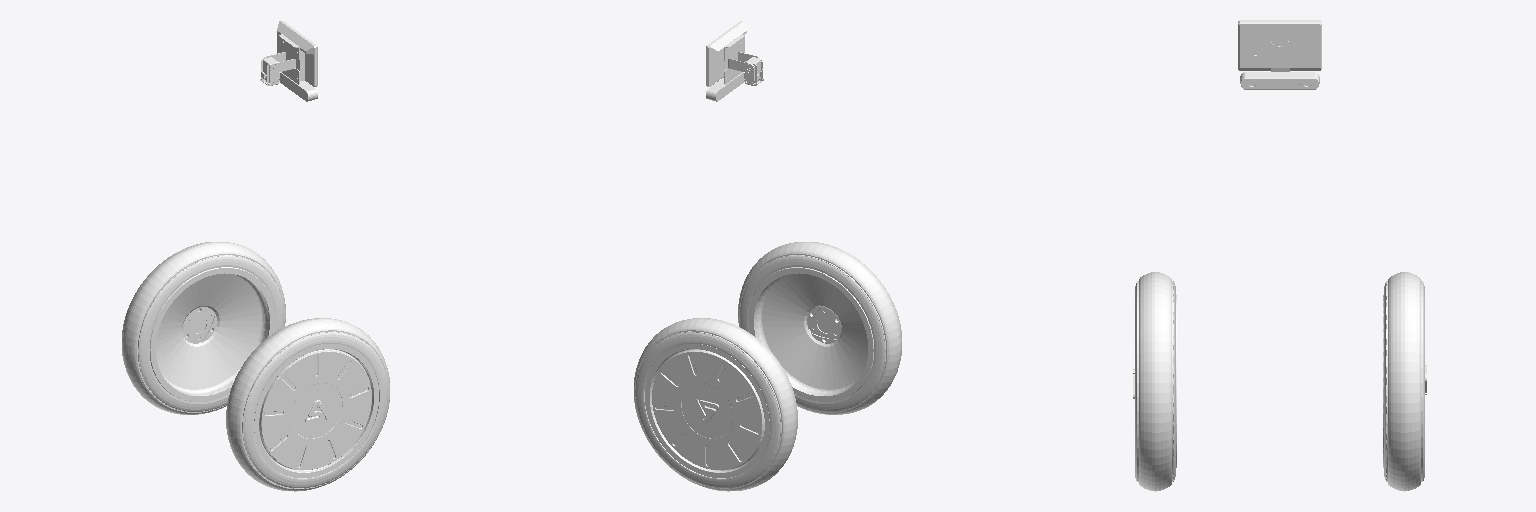
--- Render facts (derived) ---
3 views of the same robot in one strip: view 1: azimuth 30°, elevation 25°; view 2: azimuth 150°, elevation 25°; view 3: azimuth 270°, elevation 25° (orthographic).
Model segway_robot with 25 links and 24 joints (2 revolute, 2 continuous, 20 fixed), rooted at base_link, posed all joints at 0.
Links seen in each view (by area): view 1: right_wheel_link, left_wheel_link, tilt_link; view 2: left_wheel_link, right_wheel_link, tilt_link; view 3: left_wheel_link, right_wheel_link, tilt_link, camera_link.
Boxes of the visible links, <box> form: right_wheel_link: <box>226,318,389,491</box>; left_wheel_link: <box>122,242,285,414</box>; tilt_link: <box>266,21,317,86</box>; left_wheel_link: <box>634,318,797,491</box>; right_wheel_link: <box>738,242,901,414</box>; tilt_link: <box>706,21,757,86</box>; left_wheel_link: <box>1383,272,1426,491</box>; right_wheel_link: <box>1133,272,1176,491</box>; tilt_link: <box>1238,20,1321,71</box>; camera_link: <box>1240,72,1319,89</box>.
Size in the robot's own frame: 0.4806 by 0.6435 by 1.17 metres.
Meshes: 6 distinct files referenced, 5 mesh visuals loaded (1 binary STL, 3 OBJ); not drawn: 2 (reference not matched to a file when rendering).

URDF robot description (segway_robot):
<?xml version="1.0" ?>
<!-- =================================================================================== -->
<!-- |    This document was autogenerated by xacro from rmp.urdf.xacro                 | -->
<!-- |    EDITING THIS FILE BY HAND IS NOT RECOMMENDED                                 | -->
<!-- =================================================================================== -->
<!--
Software License Agreement (BSD)

\file      segway.urdf.xacro
\authors   Patrick Hussey
\copyright Copyright (c) 2018, Stanley Innovation, Inc., All rights reserved.

Redistribution and use in source and binary forms, with or without modification, are permitted provided that
the following conditions are met:
 * Redistributions of source code must retain the above copyright notice, this list of conditions and the
   following disclaimer.
 * Redistributions in binary form must reproduce the above copyright notice, this list of conditions and the
   following disclaimer in the documentation and/or other materials provided with the distribution.
 * Neither the name of Stanley Innovation, Inc. nor the names of its contributors may be used to endorse or promote
   products derived from this software without specific prior written permission.

THIS SOFTWARE IS PROVIDED BY THE COPYRIGHT HOLDERS AND CONTRIBUTORS "AS IS" AND ANY EXPRESS OR IMPLIED WAR-
RANTIES, INCLUDING, BUT NOT LIMITED TO, THE IMPLIED WARRANTIES OF MERCHANTABILITY AND FITNESS FOR A PARTICULAR
PURPOSE ARE DISCLAIMED. IN NO EVENT SHALL THE COPYRIGHT HOLDER OR CONTRIBUTORS BE LIABLE FOR ANY DIRECT, IN-
DIRECT, INCIDENTAL, SPECIAL, EXEMPLARY, OR CONSEQUENTIAL DAMAGES (INCLUDING, BUT NOT LIMITED TO, PROCUREMENT
OF SUBSTITUTE GOODS OR SERVICES; LOSS OF USE, DATA, OR PROFITS; OR BUSINESS INTERRUPTION) HOWEVER CAUSED AND
ON ANY THEORY OF LIABILITY, WHETHER IN CONTRACT, STRICT LIABILITY, OR TORT (INCLUDING NEGLIGENCE OR OTHERWISE)
ARISING IN ANY WAY OUT OF THE USE OF THIS SOFTWARE, EVEN IF ADVISED OF THE POSSIBILITY OF SUCH DAMAGE.
-->
<robot name="segway_robot" xmlns:xacro="http://ros.org/wiki/xacro">
  <gazebo>
    <plugin filename="libgazebo_ros_control.so" name="gazebo_ros_control">
      <robotNamespace>/</robotNamespace>
    </plugin>
    <plugin filename="libgazebo_ros_p3d.so" name="gazebo_ros_p3d">
      <bodyName>base_link</bodyName>
      <topicName>ground_truth_odom</topicName>
      <alwaysOn>true</alwaysOn>
      <updateRate>100.0</updateRate>
    </plugin>
  </gazebo>
  <!-- Base link is the center of the robot's chassis between the motors projected on the ground -->
  <link name="base_link">
  <inertial>
      <mass value="0.001"/>
      <origin rpy="0 0 0" xyz="0 0 0"/>
      <inertia ixx="0.0001" ixy="0.0" ixz="0.0" iyy="0.0001" iyz="0.0" izz="0.0001"/>
    </inertial>
  </link>
  <joint name="base_chassis_joint" type="fixed">
    <origin rpy="0 0 0" xyz="0 0 0.15801795"/>
    <parent link="base_link"/>
    <child link="base_chassis_link"/>
  </joint>
  <link name="base_chassis_link">
    <inertial>
      <mass value="101.0333036"/>
      <origin xyz="0 0 0.202000"/>
      <inertia ixx="5.38268396036" ixy="0" ixz="0" iyy="5.38268396036" iyz="0" izz="5.38268396036"/>
    </inertial>
    <collision>
      <geometry>
        <mesh filename="meshes/segway_components/collision/fixed_chassis_collision.stl"/>
      </geometry>
    </collision>
    <visual>
      <origin rpy="0 0 0" xyz="0 0 0"/>
      <geometry>
        <mesh filename="meshes/segway_components/visual/processed_fixed_chassis.obj"/>
      </geometry>
          <material name="">
        <color rgba="1 1 1 1" />
      </material>
</visual>
  </link>

<joint name="jr2_fixed_body_joint" type="fixed">
    <parent link="base_chassis_link"/>
    <child link="jr2_fixed_body_link"/>
    <origin rpy="0 0 0" xyz="0 0 0"/>
  </joint>
  <link name="jr2_fixed_body_link">
    <visual>
      <origin rpy="0 0 0" xyz="0 0 0"/>
      <geometry>
        <mesh filename="meshes/segway_components/visual/processed_fixed_body_highres.obj" scale="1.0 1.0 1.0"/>
      </geometry>
    </visual>
    <collision>
      <origin rpy="0 0 0" xyz="0 0 0"/>
      <geometry>
        <mesh filename="meshes/segway_components/visual/fixed_body_vhacd.obj" scale="1.0 1.0 1.0"/>
      </geometry>
    </collision>
    <inertial>
      <mass value="0.001"/>
      <origin rpy="0 0 0" xyz="0 0 0"/>
      <inertia ixx="0.0001" ixy="0.0" ixz="0.0" iyy="0.0001" iyz="0.0" izz="0.0001"/>
    </inertial>
  </link>

  <joint name="left_wheel" type="continuous">
    <parent link="base_chassis_link"/>
    <child link="left_wheel_link"/>
    <origin rpy="0 0 0" xyz="0 0.27105 0.08255015"/>
    <axis rpy="0 0 0" xyz="0 1 0"/>
  </joint>
  <gazebo reference="left_wheel">
    <implicitSpringDamper>1</implicitSpringDamper>
    <stopCfm>0.1</stopCfm>
    <stopErp>0.2</stopErp>
  </gazebo>
  <link name="left_wheel_link">
    <inertial>
      <mass value="20.0"/>
      <origin rpy="0 0 0" xyz="0 0 0"/>
      <inertia ixx="0.303625" ixy="0.000000" ixz="0.000000" iyx="0.000000" iyy="0.303625" iyz="0.000000" izx="0.000000" izy="0.000000" izz="0.578884"/>
    </inertial>
    <visual>
      <origin rpy="-1.570795 0 0" xyz="0 0 0"/>
      <geometry>
        <mesh filename="meshes/segway_components/visual/processed_i2_wheel.obj"/>
      </geometry>
          <material name="">
        <color rgba="1 1 1 1" />
      </material>
</visual>
    <collision>
      <origin rpy="-1.570795 0 0" xyz="0 0 0"/>
      <geometry>
        <cylinder length="0.092249" radius="0.2406"/>
      </geometry>
    </collision>

    <contact>
      <lateral_friction value="1.0"/>
      <rolling_friction value="0.0"/>
    <stiffness value="300000"/>
<damping value="30000"/>
    </contact>


  </link>
  <gazebo reference="left_wheel_link">
    <mu1>10</mu1>
    <mu2>10</mu2>
    <kp>5000000.0</kp>
    <kd>10.0</kd>
    <minDepth>0.001</minDepth>
    <maxVel>0.1</maxVel>
    <fdir1>1 0 0</fdir1>
  </gazebo>
  <transmission name="left_wheel_trans" type="SimpleTransmission">
    <type>transmission_interface/SimpleTransmission</type>
    <actuator name="left_wheel_motor">
      <mechanicalReduction>1</mechanicalReduction>
    </actuator>
    <joint name="left_wheel">
      <hardwareInterface>hardware_interface/VelocityJointInterface</hardwareInterface>
    </joint>
  </transmission>
  <joint name="right_wheel" type="continuous">
    <parent link="base_chassis_link"/>
    <child link="right_wheel_link"/>
    <origin rpy="0 0 0" xyz="0 -0.27105 0.08255015"/>
    <axis rpy="0 0 0" xyz="0 1 0"/>
  </joint>
  <gazebo reference="right_wheel">
    <implicitSpringDamper>1</implicitSpringDamper>
    <stopCfm>0.1</stopCfm>
    <stopErp>0.2</stopErp>
  </gazebo>
  <link name="right_wheel_link">
    <inertial>
      <mass value="20.0"/>
      <origin rpy="0 0 0" xyz="0 0 0"/>
      <inertia ixx="0.303625" ixy="0.000000" ixz="0.000000" iyx="0.000000" iyy="0.303625" iyz="0.000000" izx="0.000000" izy="0.000000" izz="0.578884"/>
    </inertial>
    <visual>
      <origin rpy="1.570795 0 0" xyz="0 0 0"/>
      <geometry>
        <mesh filename="meshes/segway_components/visual/processed_i2_wheel.obj"/>
      </geometry>
          <material name="">
        <color rgba="1 1 1 1" />
      </material>
</visual>
    <collision>
      <origin rpy="1.570795 0 0" xyz="0 0 0"/>
      <geometry>
        <cylinder length="0.092249" radius="0.2406"/>
      </geometry>
    </collision>

    <contact>
      <lateral_friction value="1.0"/>
      <rolling_friction value="0.0"/>
    <stiffness value="300000"/>
<damping value="30000"/>
    </contact>

  </link>
  <gazebo reference="right_wheel_link">
    <mu1>10</mu1>
    <mu2>10</mu2>
    <kp>5000000.0</kp>
    <kd>10.0</kd>
    <minDepth>0.001</minDepth>
    <maxVel>0.1</maxVel>
    <fdir1>1 0 0</fdir1>
  </gazebo>
  <transmission name="right_wheel_trans" type="SimpleTransmission">
    <type>transmission_interface/SimpleTransmission</type>
    <actuator name="right_wheel_motor">
      <mechanicalReduction>1</mechanicalReduction>
    </actuator>
    <joint name="right_wheel">
      <hardwareInterface>hardware_interface/VelocityJointInterface</hardwareInterface>
    </joint>
  </transmission>
  <link name="front_caster_pivot_link">
    <inertial>
      <mass value="0.0001"/>
      <origin rpy="0 0 0" xyz="0 0 0"/>
      <inertia ixx="0.0000001" ixy="0.0" ixz="0.0" iyy="0.0000001" iyz="0.0" izz="0.0000001"/>
    </inertial>
    <collision>
      <geometry>
        <mesh filename="meshes/segway_components/collision/frogleg_caster_pivot_collision.stl"/>
      </geometry>
    </collision>
  </link>
  <joint name="front_caster_pivot_joint" type="fixed">
    <origin rpy="0 0 3.14159" xyz="0.385841 0 0.051100"/>
    <parent link="base_chassis_link"/>
    <child link="front_caster_pivot_link"/>
  </joint>
  <link name="front_caster_wheel_link">
    <inertial>
      <mass value="1"/>
      <origin rpy="0 0 0" xyz="-0.1 0 0"/>
      <inertia ixx="0.002794" ixy="0.0" ixz="0.0" iyy="0.002794" iyz="0.0" izz="0.002794"/>
    </inertial>
    <collision>
      <geometry>
        <sphere radius="0.083571637"/>
      </geometry>
    </collision>

    <contact>
      <lateral_friction value="0.0"/>
      <rolling_friction value="0.0"/>
      <stiffness value="500000"/>
      <damping value="30000"/>
    </contact>

  </link>
  <joint name="front_caster_wheel_joint" type="fixed">
    <origin rpy="-1.570795 0 0" xyz="-0.055330 0 -0.125551"/>
    <parent link="front_caster_pivot_link"/>
    <child link="front_caster_wheel_link"/>
  </joint>
  <gazebo reference="front_caster_wheel_link">
    <mu1>0.0</mu1>
    <mu2>0.0</mu2>
    <kp>10000000.0</kp>
    <kd>100.0</kd>
    <minDepth>0.01</minDepth>
    <maxVel>10.0</maxVel>
  </gazebo>
  <link name="rear_caster_pivot_link">
    <inertial>
      <mass value="0.0001"/>
      <origin rpy="0 0 0" xyz="0 0 0"/>
      <inertia ixx="0.0000001" ixy="0.0" ixz="0.0" iyy="0.0000001" iyz="0.0" izz="0.0000001"/>
    </inertial>
    <collision>
      <geometry>
        <mesh filename="meshes/segway_components/collision/frogleg_caster_pivot_collision.stl"/>
      </geometry>
    </collision>
  </link>
  <joint name="rear_caster_pivot_joint" type="fixed">
    <origin rpy="0 0 0" xyz="-0.314721 0 0.051100"/>
    <parent link="base_chassis_link"/>
    <child link="rear_caster_pivot_link"/>
  </joint>
  <link name="rear_caster_wheel_link">
    <inertial>
      <mass value="1"/>
      <origin rpy="0 0 0" xyz="0 0 0"/>
      <inertia ixx="0.002794" ixy="0.0" ixz="0.0" iyy="0.002794" iyz="0.0" izz="0.002794"/>
    </inertial>
    <collision>
      <geometry>
        <sphere radius="0.083571637"/>
      </geometry>
    </collision>

    <contact>
      <lateral_friction value="0.0"/>
      <rolling_friction value="0.0"/>
 <stiffness value="300000"/>
<damping value="30000"/> 
    </contact>

  </link>
  <joint name="rear_caster_wheel_joint" type="fixed">
    <origin rpy="-1.570795 0 0" xyz="-0.055330 0 -0.125551"/>
    <parent link="rear_caster_pivot_link"/>
    <child link="rear_caster_wheel_link"/>
  </joint>
  <gazebo reference="rear_caster_wheel_link">
    <mu1>0.0</mu1>
    <mu2>0.0</mu2>
    <kp>10000000.0</kp>
    <kd>100.0</kd>
    <minDepth>0.01</minDepth>
    <maxVel>10.0</maxVel>
  </gazebo>
  <!-- CH Robotics UM7 Link-->
  <link name="ext_imu_frame">
  <inertial>
      <mass value="0.001"/>
      <origin rpy="0 0 0" xyz="0 0 0"/>
      <inertia ixx="0.0001" ixy="0.0" ixz="0.0" iyy="0.0001" iyz="0.0" izz="0.0001"/>
    </inertial>
    </link>
  <joint name="ext_imu_joint" type="fixed">
    <origin rpy="3.14159 0 1.570795" xyz="0.053540 0 0.086597"/>
    <parent link="base_chassis_link"/>
    <child link="ext_imu_frame"/>
  </joint>
  <gazebo>
    <plugin filename="libhector_gazebo_ros_imu.so" name="imu_controller">
      <alwaysOn>1</alwaysOn>
      <updateRate>50.0</updateRate>
      <bodyName>ext_imu_frame</bodyName>
      <topicName>/segway/feedback/ext_imu</topicName>
      <accelDrift>0.005 0.005 0.005</accelDrift>
      <accelGaussianNoise>0.005 0.005 0.005</accelGaussianNoise>
      <rateDrift>0.005 0.005 0.005 </rateDrift>
      <rateGaussianNoise>0.005 0.005 0.005 </rateGaussianNoise>
      <headingDrift>0.005</headingDrift>
      <headingGaussianNoise>0.005</headingGaussianNoise>
    </plugin>
  </gazebo>
  <link name="rear_laser_link">
  <inertial>
      <mass value="0.001"/>
      <origin rpy="0 0 0" xyz="0 0 0"/>
      <inertia ixx="0.0001" ixy="0.0" ixz="0.0" iyy="0.0001" iyz="0.0" izz="0.0001"/>
    </inertial>
  </link>
  <joint name="rear_laser_joint" type="fixed">
    <origin rpy="0 0 3.14159" xyz="-0.336957 0 0.137117"/>
    <parent link="base_chassis_link"/>
    <child link="rear_laser_link"/>
  </joint>
  <gazebo reference="rear_laser_link">
    <sensor name="rear_tim_laser" type="gpu_ray">
      <pose>0 0 0 0 0 0</pose>
      <visualize>false</visualize>
      <update_rate>15</update_rate>
      <ray>
        <scan>
          <horizontal>
            <samples>660</samples>
            <resolution>1</resolution>
            <min_angle>-1.9</min_angle>
            <max_angle>1.9</max_angle>
          </horizontal>
        </scan>
        <range>
          <min>0.10</min>
          <max>20.0</max>
          <resolution>0.01</resolution>
        </range>
        <noise>
          <type>gaussian</type>
          <mean>0.0</mean>
          <stddev>0.0</stddev>
        </noise>
      </ray>
      <plugin filename="libgazebo_ros_gpu_laser.so" name="rear_tim_node">
        <topicName>/segway/rear_scan</topicName>
        <frameName>rear_laser_link</frameName>
      </plugin>
    </sensor>
  </gazebo>
  <link name="front_laser_link">
  <inertial>
      <mass value="0.001"/>
      <origin rpy="0 0 0" xyz="0 0 0"/>
      <inertia ixx="0.0001" ixy="0.0" ixz="0.0" iyy="0.0001" iyz="0.0" izz="0.0001"/>
    </inertial>
  </link>
  <joint name="front_laser_joint" type="fixed">
    <origin rpy="0 0 0" xyz="0.336957 0 0.137117"/>
    <parent link="base_chassis_link"/>
    <child link="front_laser_link"/>
  </joint>
  <gazebo reference="front_laser_link">
    <sensor name="front_tim_laser" type="gpu_ray">
      <pose>0 0 0 0 0 0</pose>
      <visualize>false</visualize>
      <update_rate>15</update_rate>
      <ray>
        <scan>
          <horizontal>
            <samples>660</samples>
            <resolution>1</resolution>
            <min_angle>-1.9</min_angle>
            <max_angle>1.9</max_angle>
          </horizontal>
        </scan>
        <range>
          <min>0.10</min>
          <max>20.0</max>
          <resolution>0.01</resolution>
        </range>
        <noise>
          <type>gaussian</type>
          <mean>0.0</mean>
          <stddev>0.0</stddev>
        </noise>
      </ray>
      <plugin filename="libgazebo_ros_gpu_laser.so" name="front_tim_node">
        <topicName>/segway/front_scan</topicName>
        <frameName>front_laser_link</frameName>
      </plugin>
    </sensor>
  </gazebo>
  <link name="lower_velodyne_frame">
  <inertial>
      <mass value="0.001"/>
      <origin rpy="0 0 0" xyz="0 0 0"/>
      <inertia ixx="0.0001" ixy="0.0" ixz="0.0" iyy="0.0001" iyz="0.0" izz="0.0001"/>
    </inertial>
  </link>
  <joint name="lower_velodyne_joint" type="fixed">
    <origin rpy="0 0 0" xyz="-0.019685 0 0.606982"/>
    <parent link="base_chassis_link"/>
    <child link="lower_velodyne_frame"/>
  </joint>
  <!--gazebo reference="lower_velodyne_frame">>
            <sensor type="ray" name="lower_velodyne">
                <pose>0 0 0 0 0 0</pose>
                <visualize>false</visualize>
                <update_rate>10</update_rate>
                <ray>
                    <scan>
                        <horizontal>
                            <samples>1090</samples>
                            <resolution>1</resolution>
                            <min_angle>${-M_PI}</min_angle>
                            <max_angle>${M_PI}</max_angle>
                        </horizontal>
                        <vertical>
                            <samples>16</samples>
                            <resolution>1</resolution>
                            <min_angle>-${15.0*M_PI/180.0}</min_angle>
                            <max_angle> ${15.0*M_PI/180.0}</max_angle>
                        </vertical>
                    </scan>
                    <range>
                        <min>0.9</min>
                        <max>20.0</max>
                        <resolution>0.001</resolution>
                    </range>
                    <noise>
                        <type>gaussian</type>
                        <mean>0.0</mean>
                        <stddev>0.0</stddev>
                    </noise>
                </ray>
                <plugin name="lower_velodyne_plugin" filename="libgazebo_ros_block_laser.so">
                    <updateRate>10.0</updateRate>
                    <topicName>/lower_velodyne_pointcloud</topicName>
                    <frameName>lower_velodyne_frame</frameName>
                </plugin>

            </sensor>
        </gazebo-->
  <link name="occam">
  <inertial>
      <mass value="0.001"/>
      <origin rpy="0 0 0" xyz="0 0 0"/>
      <inertia ixx="0.0001" ixy="0.0" ixz="0.0" iyy="0.0001" iyz="0.0" izz="0.0001"/>
    </inertial>
    </link>
  <joint name="ocamm_omni_joint" type="fixed">
    <origin rpy="-1.570795 0 -1.570795" xyz="-0.019685 0 0.742092"/>
    <parent link="base_chassis_link"/>
    <child link="occam"/>
  </joint>
  <link name="occam_omni_optical_link">
  <inertial>
      <mass value="0.001"/>
      <origin rpy="0 0 0" xyz="0 0 0"/>
      <inertia ixx="0.0001" ixy="0.0" ixz="0.0" iyy="0.0001" iyz="0.0" izz="0.0001"/>
    </inertial>
  </link>
  <joint name="ocamm_omni_optical_joint" type="fixed">
    <origin rpy="0 1.570795 -1.570795" xyz="0 0 0"/>
    <parent link="occam"/>
    <child link="occam_omni_optical_link"/>
  </joint>
  <link name="upper_velodyne_frame">
  <inertial>
      <mass value="0.001"/>
      <origin rpy="0 0 0" xyz="0 0 0"/>
      <inertia ixx="0.0001" ixy="0.0" ixz="0.0" iyy="0.0001" iyz="0.0" izz="0.0001"/>
    </inertial>
  </link>
  <joint name="upper_velodyne_joint" type="fixed">
    <origin rpy="0 0 0.085" xyz="-0.019685 0 1.077382"/>
    <parent link="base_chassis_link"/>
    <child link="upper_velodyne_frame"/>
  </joint>
  <!--gazebo reference="upper_velodyne_frame">
            <sensor name="upper_velodyne" type="ray">
                <pose>0 0 0 0 0 0</pose>
                <visualize>false</visualize>
                <update_rate>10</update_rate>
                <ray>
                    <scan>
                        <horizontal>
                            <samples>1090</samples>
                            <resolution>1</resolution>
                            <min_angle>${-M_PI}</min_angle>
                            <max_angle>${M_PI}</max_angle>
                        </horizontal>
                        <vertical>
                            <samples>16</samples>
                            <resolution>1</resolution>
                            <min_angle>-${15.0*M_PI/180.0}</min_angle>
                            <max_angle> ${15.0*M_PI/180.0}</max_angle>
                        </vertical>
                    </scan>
                    <range>
                        <min>0.9</min>
                        <max>20.0</max>
                        <resolution>0.001</resolution>
                    </range>
                    <noise>
                        <type>gaussian</type>
                        <mean>0.0</mean>
                        <stddev>0.0</stddev>
                    </noise>
                </ray>
                <plugin name="upper_velodyne_plugin" filename="libgazebo_ros_block_laser.so">
                    <updateRate>10.0</updateRate>
                    <topicName>/upper_velodyne_pointcloud</topicName>
                    <frameName>upper_velodyne_frame</frameName>
                </plugin>

            </sensor>
        </gazebo-->
  <link name="gps_frame">
  <inertial>
      <mass value="0.001"/>
      <origin rpy="0 0 0" xyz="0 0 0"/>
      <inertia ixx="0.0001" ixy="0.0" ixz="0.0" iyy="0.0001" iyz="0.0" izz="0.0001"/>
    </inertial>
  </link>
  <joint name="gps_joint" type="fixed">
    <origin rpy="0 0 -1.570795" xyz="-0.019685 0 1.116244"/>
    <parent link="base_chassis_link"/>
    <child link="gps_frame"/>
  </joint>
  <gazebo>
    <plugin filename="libhector_gazebo_ros_gps.so" name="gps_controller">
      <alwaysOn>1</alwaysOn>
      <updateRate>40</updateRate>
      <bodyName>gps_frame</bodyName>
      <topicName>/segway/feedback/gps/fix_2d</topicName>
      <velocityTopicName>/segway/feedback/gps/vel</velocityTopicName>
      <referenceLatitude>40.712784</referenceLatitude>
      <referenceLongitude>-74.005941</referenceLongitude>
      <referenceHeading>0</referenceHeading>
      <referenceAltitude>0</referenceAltitude>
      <drift>0.0001 0.0001 0.0001</drift>
    </plugin>
  </gazebo>
  <joint name="pan_joint" type="revolute">
    <origin rpy="0 0 0" xyz="0.043815 0 0.886186"/>
    <axis xyz="0 0 1"/>
    <parent link="base_chassis_link"/>
    <child link="pan_link"/>
    <limit effort="60.0" lower="-1.570796326794897" upper="1.570796326794897" velocity="6.597"/>
  </joint>
  <link name="pan_link">
    <inertial>
      <mass value="0.142314"/>
      <origin xyz="-0.000098 -0.000421 0.038035"/>
      <inertia ixx="0.000065" ixy="0.000001" ixz="0.000000" iyx="0.000001" iyy="0.000055" iyz="-0.000002" izx="0.00000" izy="-0.000002" izz="0.000034"/>
    </inertial>
    <visual>
      <origin rpy="0 0 0" xyz="0 0 0"/>
      <geometry>
        <mesh filename="meshes/segway_components/visual/processed_tilt_servo.obj"/>
      </geometry>
          <material name="">
        <color rgba="1 1 1 1" />
      </material>
</visual>
    <collision>
      <origin rpy="0 0 0" xyz="0 0 0"/>
      <geometry>
        <mesh filename="meshes/segway_components/collision/tilt_servo_collision.stl"/>
      </geometry>
    </collision>
  </link>
  <transmission name="pan_trans" type="SimpleTransmission">
    <type>transmission_interface/SimpleTransmission</type>
    <joint name="pan_joint">
      <hardwareInterface>hardware_interface/EffortJointInterface</hardwareInterface>
    </joint>
    <actuator name="pan_actuator">
      <mechanicalReduction>1</mechanicalReduction>
    </actuator>
  </transmission>
  <link name="tilt_link">
    <inertial>
      <mass value="0.531983"/>
      <origin xyz="0.077660 -0.013492 0.006611"/>
      <inertia ixx="0.001766" ixy="0.000001" ixz="-0.000024" iyx="0.000001" iyy="0.001253" iyz="0.000022" izx="-0.000024" izy="0.000022" izz="0.000629"/>
    </inertial>
    <visual>
      <origin rpy="0 0 0" xyz="0 0 0"/>
      <geometry>
        <mesh filename="meshes/segway_components/visual/processed_touch_screen.obj"/>
      </geometry>
          <material name="">
        <color rgba="1 1 1 1" />
      </material>
</visual>
    <collision>
      <origin rpy="0 0 0" xyz="0 0 0"/>
      <geometry>
        <mesh filename="meshes/segway_components/collision/touch_screen_collision.stl"/>
      </geometry>
    </collision>
  </link>
  <joint name="tilt_joint" type="revolute">
    <origin rpy="-1.570795 0 0" xyz="0 0 0.055000"/>
    <axis xyz="0 0 1"/>
    <parent link="pan_link"/>
    <child link="tilt_link"/>
    <limit effort="60.0" lower="-1.570796326794897" upper="1.570796326794897" velocity="6.597"/>
  </joint>
  <transmission name="tilt_trans" type="SimpleTransmission">
    <type>transmission_interface/SimpleTransmission</type>
    <joint name="tilt_joint">
      <hardwareInterface>hardware_interface/EffortJointInterface</hardwareInterface>
    </joint>
    <actuator name="tilt_actuator">
      <mechanicalReduction>1</mechanicalReduction>
    </actuator>
  </transmission>
  <joint name="camera_joint" type="fixed">
    <origin rpy="1.57 0 0" xyz="0.08 0.075 0.0"/>
    <parent link="tilt_link"/>
    <child link="camera_link"/>
  </joint>
  <link name="camera_link">
    <inertial>
      <mass value="0.1"/>
      <origin xyz="0 0 0"/>
      <inertia ixx="0.001767" ixy="0.0" ixz="0.0" iyx="0.0" iyy="0.001789" iyz="0.0" izx="0.0" izy="0.0" izz="0.002159"/>
    </inertial>
    <visual>
      <geometry>
        <mesh filename="meshes/additional_sensors/visual/ZED.stl"/>
      </geometry>
          <material name="">
        <color rgba="1 1 1 1" />
      </material>
</visual>
    <collision>
      <geometry>
        <box size="0.033 0.175 0.030"/>
      </geometry>
    </collision>
  </link>


  <!-- ZED left camera frame -->
  <link name="camera_rgb_frame">
  <inertial>
      <mass value="0.001"/>
      <origin rpy="0 0 0" xyz="0 0 0"/>
      <inertia ixx="0.0001" ixy="0.0" ixz="0.0" iyy="0.0001" iyz="0.0" izz="0.0001"/>
    </inertial>
  </link>
  <joint name="camera_rgb_joint" type="fixed">
    <origin rpy="0 0 0" xyz="0 0.06 0"/>
    <parent link="camera_link"/>
    <child link="camera_rgb_frame"/>
  </joint>
  <link name="camera_rgb_optical_frame">
  <inertial>
      <mass value="0.001"/>
      <origin rpy="0 0 0" xyz="0 0 0"/>
      <inertia ixx="0.0001" ixy="0.0" ixz="0.0" iyy="0.0001" iyz="0.0" izz="0.0001"/>
    </inertial>
  </link>
  <joint name="camera_rgb_optical_joint" type="fixed">
    <origin rpy="-1.57075 0 -1.57075" xyz="0 0 0"/>
    <parent link="camera_rgb_frame"/>
    <child link="camera_rgb_optical_frame"/>
  </joint>
  <!-- Same as ZED left camera frame -->
  <link name="camera_depth_frame">
  <inertial>
      <mass value="0.001"/>
      <origin rpy="0 0 0" xyz="0 0 0"/>
      <inertia ixx="0.0001" ixy="0.0" ixz="0.0" iyy="0.0001" iyz="0.0" izz="0.0001"/>
    </inertial>
    </link>
  <joint name="camera_depth_joint" type="fixed">
    <origin rpy="0 0 0" xyz="0 0.06 0"/>
    <parent link="camera_link"/>
    <child link="camera_depth_frame"/>
  </joint>
  <link name="camera_depth_optical_frame">
  <inertial>
      <mass value="0.001"/>
      <origin rpy="0 0 0" xyz="0 0 0"/>
      <inertia ixx="0.0001" ixy="0.0" ixz="0.0" iyy="0.0001" iyz="0.0" izz="0.0001"/>
    </inertial>
    </link>
  <joint name="camera_depth_optical_joint" type="fixed">
    <origin rpy="-1.57075 0 -1.57075" xyz="0 0 0"/>
    <parent link="camera_depth_frame"/>
    <child link="camera_depth_optical_frame"/>
  </joint>
  <gazebo reference="camera_link">
    <material>Gazebo/Grey</material>
    <sensor name="camera" type="depth">
      <always_on>true</always_on>
      <update_rate>30</update_rate>
      <camera>
        <horizontal_fov>1.57</horizontal_fov>
        <image>
          <format>R8G8B8</format>
          <width>672</width>
          <height>376</height>
        </image>
        <clip>
          <near>0.05</near>
          <far>10.0</far>
        </clip>
      </camera>
      <plugin filename="libgazebo_ros_openni_kinect.so" name="kinect_camera_controller">
        <cameraName>camera</cameraName>
        <alwaysOn>true</alwaysOn>
        <updateRate>20</updateRate>
        <imageTopicName>rgb/image_rect_color</imageTopicName>
        <depthImageTopicName>depth_registered/image_raw</depthImageTopicName>
        <pointCloudTopicName>depth_registered/points</pointCloudTopicName>
        <cameraInfoTopicName>rgb/camera_info</cameraInfoTopicName>
        <depthImageCameraInfoTopicName>depth_registered/camera_info</depthImageCameraInfoTopicName>
        <pointCloudCutoff>0.4</pointCloudCutoff>
        <pointCloudCutoffMax>10.0</pointCloudCutoffMax>
        <frameName>camera_rgb_optical_frame</frameName>
        <baseline>0.1</baseline>
        <distortion_k1>0.0</distortion_k1>
        <distortion_k2>0.0</distortion_k2>
        <distortion_k3>0.0</distortion_k3>
        <distortion_t1>0.0</distortion_t1>
        <distortion_t2>0.0</distortion_t2>
        <CxPrime>0</CxPrime>
        <Cx>0</Cx>
        <Cy>0</Cy>
        <focalLength>0</focalLength>
        <hackBaseline>0</hackBaseline>
      </plugin>
    </sensor>
  </gazebo>
  <!-- Head mounted Intel Realsense D435 RGB-D camera-->
  <!--
        <xacro:intel_realsense_d435 parent="tilt_link" rgbd_prefix="camera">
           <origin xyz="0.05 0 0.05" rpy="0 0 0"/>
           </xacro:intel_realsense_d435>
      -->



     <link name="eyes">
      <inertial>
      <mass value="0.001"/>
      <origin xyz="0 0 0"/>
      <inertia ixx="0.0001" ixy="0.0" ixz="0.0" iyy="0.0001" iyz="0.0" izz="0.0001"/>
    </inertial>
  </link>
  <joint name="eye_joint" type="fixed">
   <origin rpy="0 0 0" xyz="0 0.025 0"/>
    <parent link="camera_link"/>
    <child link="eyes"/>
  </joint>

</robot>
